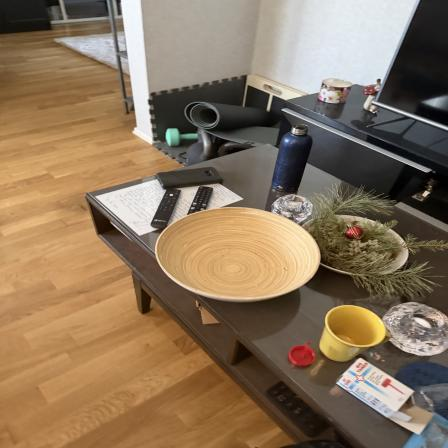blue_bottle: (273, 123, 313, 194)
phone: (157, 166, 223, 188)
yellow_cup: (319, 306, 392, 363)
